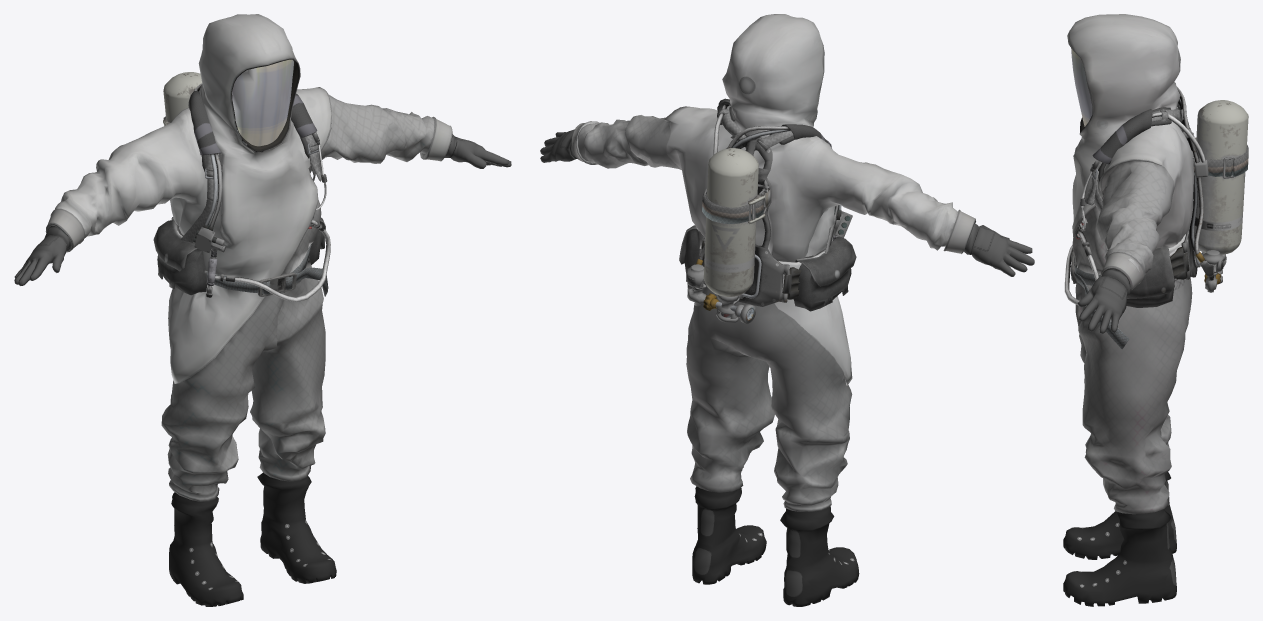
File: SCP_Hazmat.gltf
3 renders of one model, left to right at view 1: azimuth 30°, elevation 25°; view 2: azimuth 150°, elevation 25°; view 3: azimuth 270°, elevation 25°, orthographic.
Parts seen in each view (by area): view 1: Mesh_ScubaBoi; view 2: Mesh_ScubaBoi; view 3: Mesh_ScubaBoi.
Part boxes in pixels (x1,y1,x2,y2): Mesh_ScubaBoi: (14,14,511,606); Mesh_ScubaBoi: (540,14,1034,606); Mesh_ScubaBoi: (1063,14,1248,606).
Bounding box in the file's own units: 2.55 × 2.74 × 0.8332.
8 materials, 8 textured.
